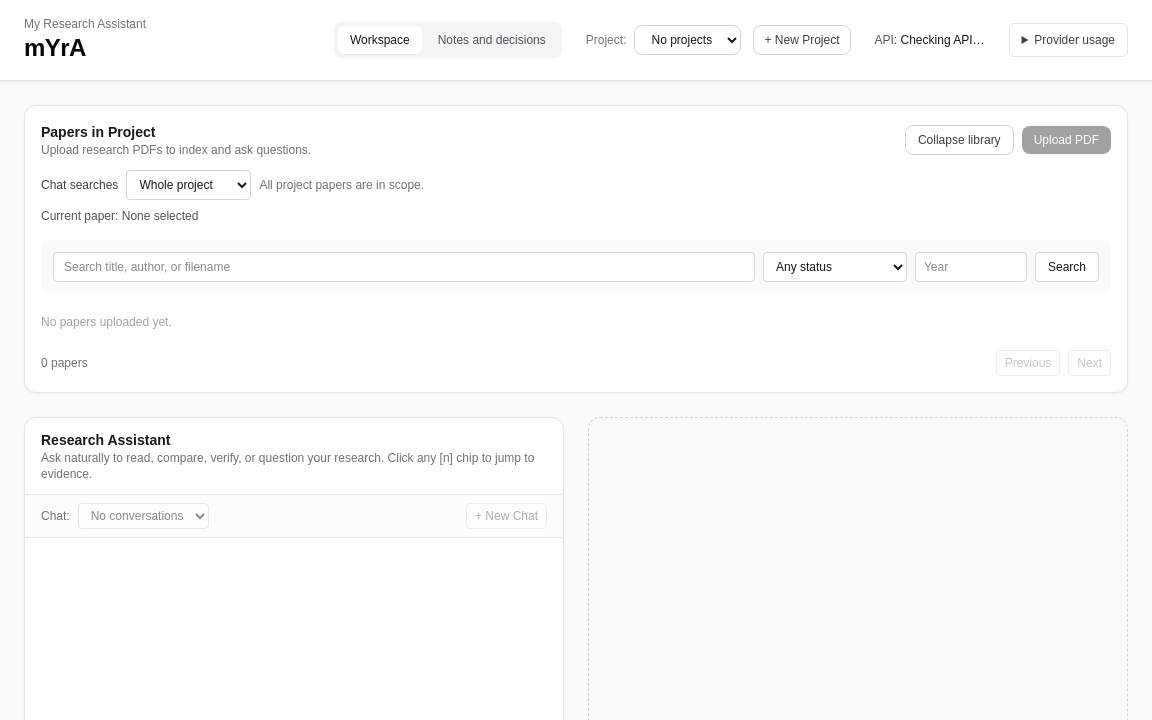
Test: Home › does not open a saved source paper from a different project
The image size is (1152, 720).
What coordinates should you click on to do the following:
click the button "Notes and decisions"
I would click on:
 (492, 40)
Its box is [426, 26, 558, 54].
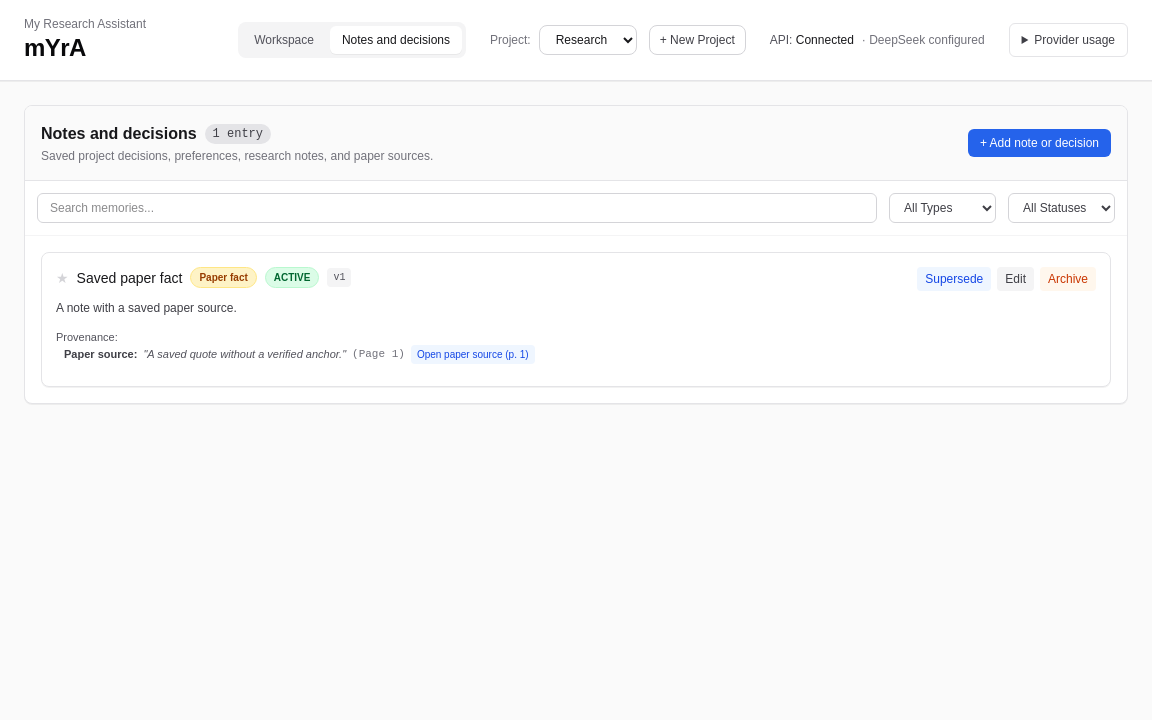
What coordinates should you click on to do the following:
click the button "Open paper source (p. 1)"
I would click on:
 (473, 354)
Its box is [411, 345, 535, 364].
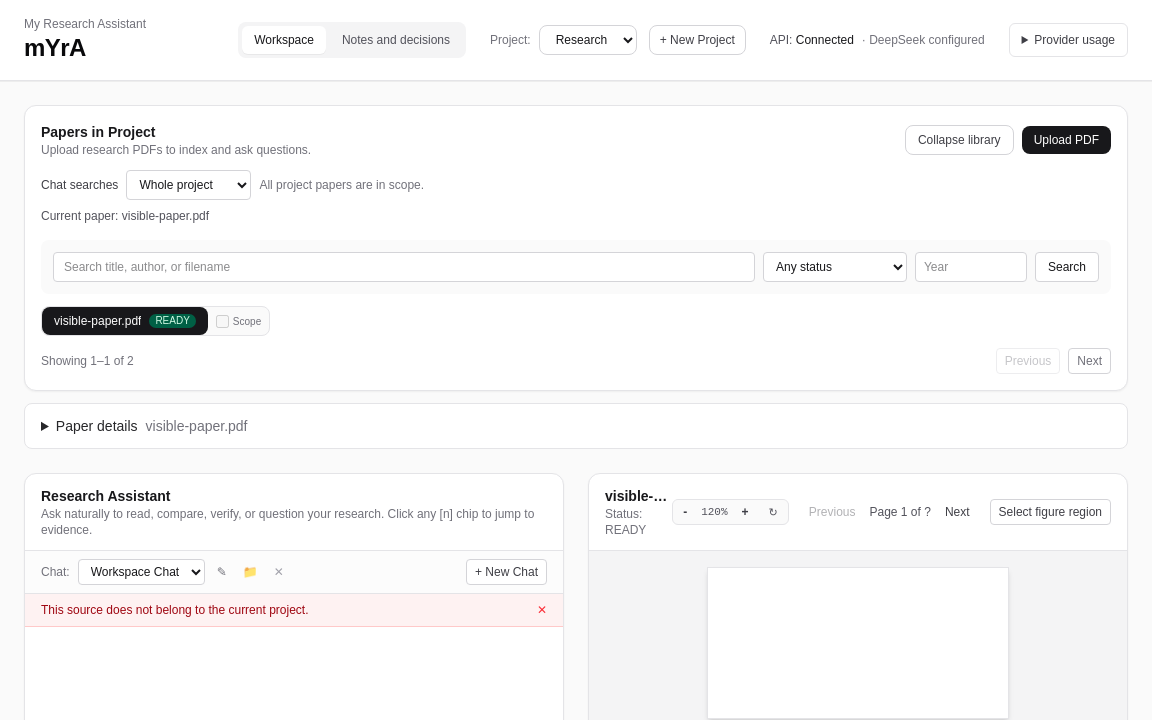
Result: the text "This source does not belong to the current project." is shown at [41, 602, 308, 618]
